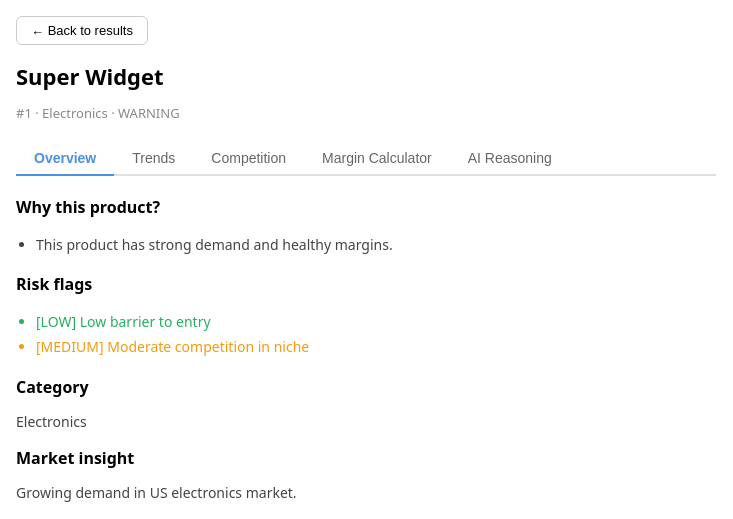
Test: AC 4 — Competition panel › shows competition score and explanation
Click the tab "Competition".
click(249, 159)  # box [193,142,304,176]
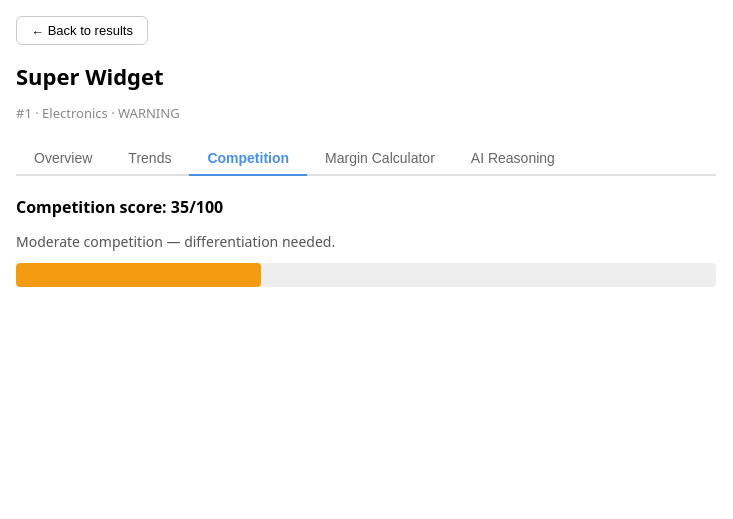
Expected: the heading "Competition score: 35/100" is shown, [16,196,223,218]
Expected: the text "Moderate competition — differentiation needed." is shown, [16,232,335,251]
